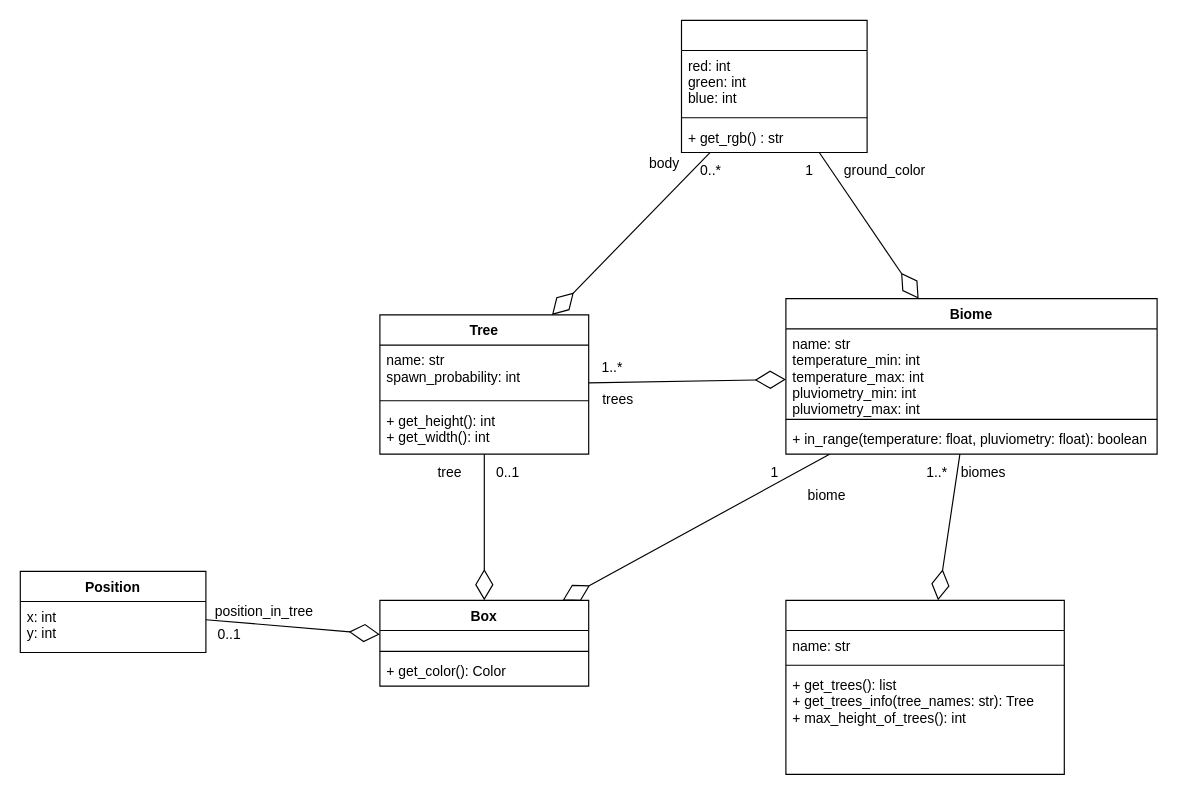
Some shapes in this 1177 by 798 pixel diagram are drawn without their labels. Each missing label, with the box of its shape:
Color: (680, 19, 867, 153)
Encyclopedia: (785, 599, 1064, 774)
